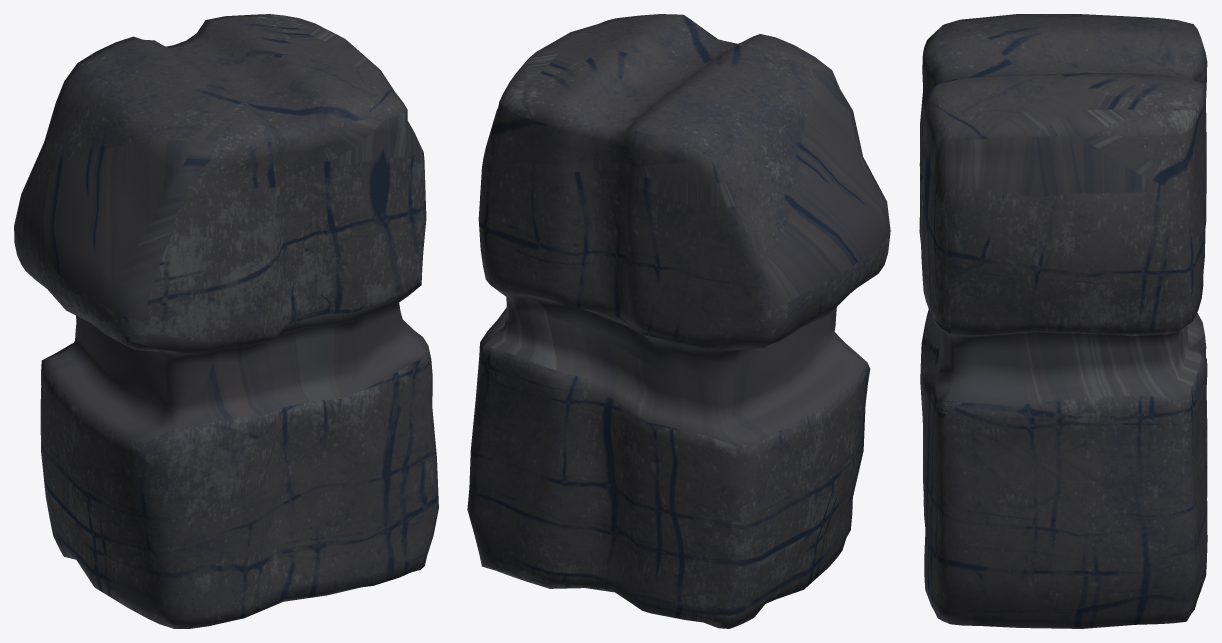
The model's file is obstacle_petit2.OBJ.
3 renders of one model, left to right at view 1: azimuth 30°, elevation 25°; view 2: azimuth 150°, elevation 25°; view 3: azimuth 270°, elevation 25°, orthographic. The views are drawn at different scales.
Visible parts, largest first — view 1: obstacle_petit2:Group50533; view 2: obstacle_petit2:Group50533; view 3: obstacle_petit2:Group50533.
Boxes of the visible parts, left/top/right/bottom form: obstacle_petit2:Group50533: left=14, top=14, right=438, bottom=628; obstacle_petit2:Group50533: left=467, top=14, right=890, bottom=628; obstacle_petit2:Group50533: left=919, top=14, right=1207, bottom=628.
Size of the model in its own units: 1019 by 1401 by 719.
1 material, 1 textured.
